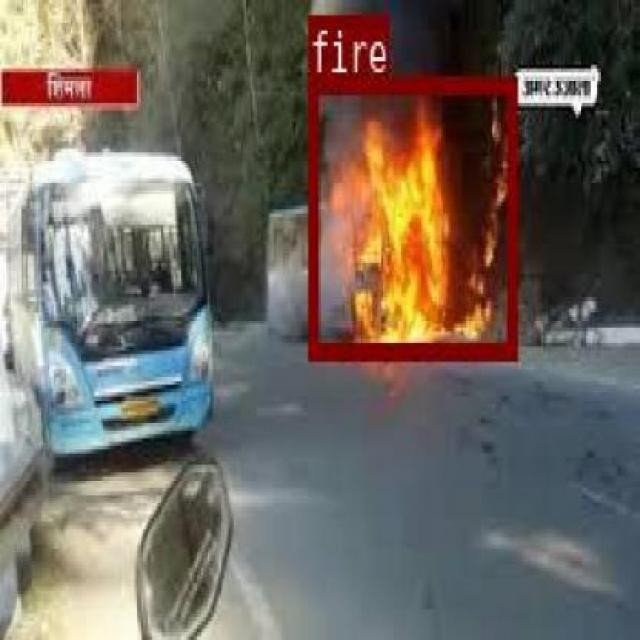Fire: (206, 216, 411, 282)
